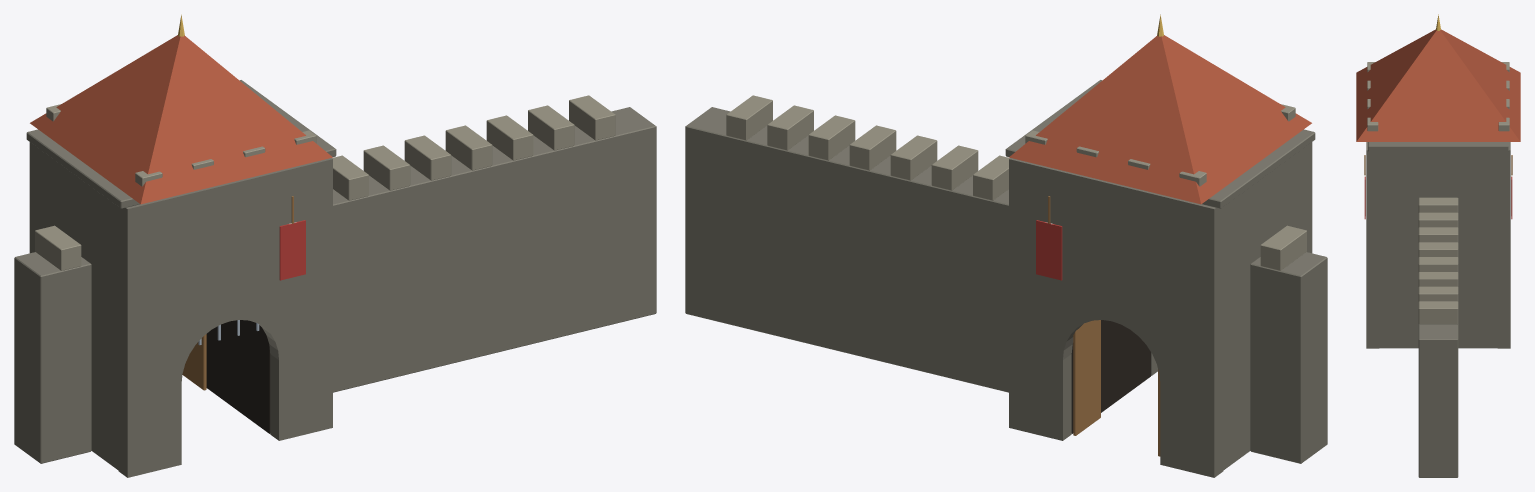
File: prop_town_gate.glb
The picture shows the model from 3 angles, left to right: view 1: azimuth 30°, elevation 25°; view 2: azimuth 150°, elevation 25°; view 3: azimuth 270°, elevation 25°; orthographic projection. The views are drawn at different scales.
Parts seen in each view (by area): view 1: prop_town_gate; view 2: prop_town_gate; view 3: prop_town_gate.
Boxes of the visible parts, x1,y1,x2,y2 form: prop_town_gate: (14,14,656,477); prop_town_gate: (685,14,1327,477); prop_town_gate: (1356,14,1520,477).
Size of the model in its own units: 24 by 15 by 7.5.
